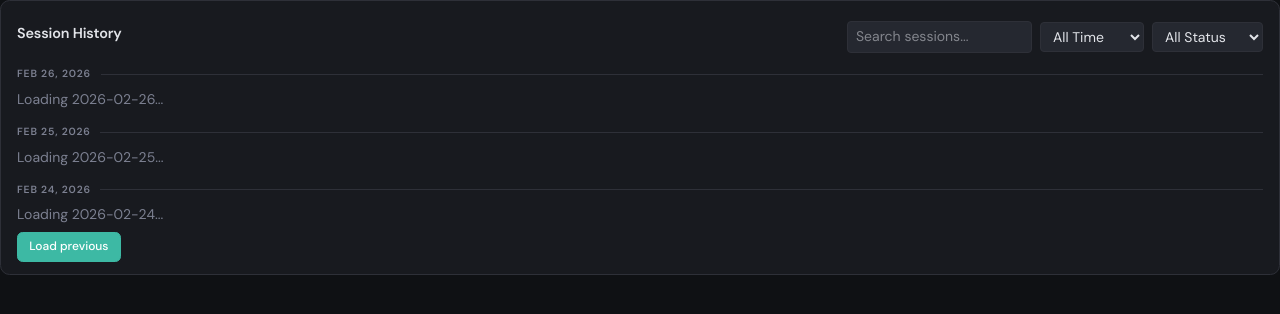
Test case: SessionList › loads previous dates on button click
The width and height of the screenshot is (1280, 314).
Click the button "Load previous": {"x": 69, "y": 247} [17,232,121,262]
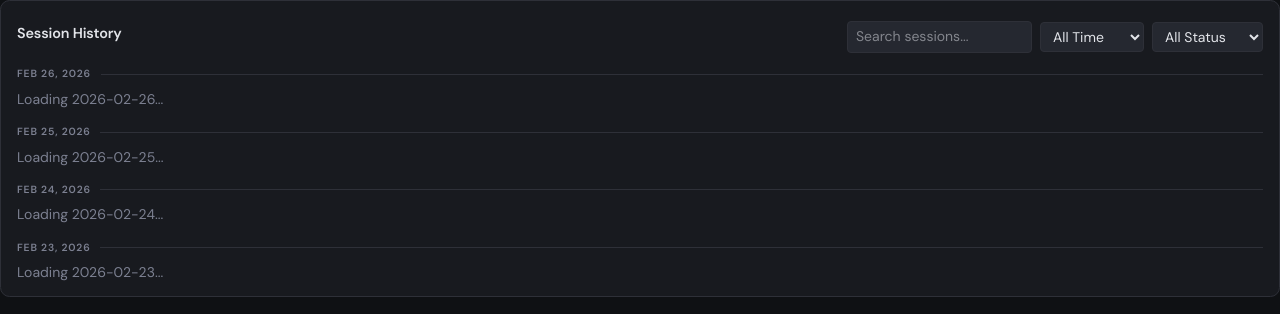
Expected: the button "Load previous" is gone
